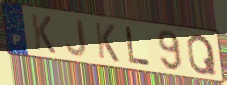9: (156, 29, 184, 73)
J: (64, 19, 88, 58)
K: (29, 12, 58, 56), (93, 20, 121, 64)
L: (123, 25, 152, 67)
Q: (186, 33, 219, 76)
